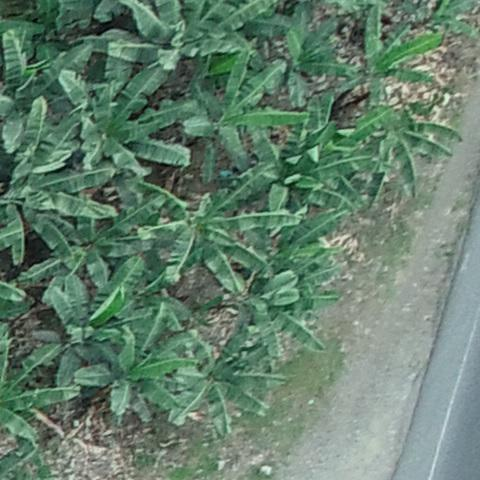Banana-plant: (146, 177, 295, 295), (66, 48, 190, 182), (3, 111, 113, 259), (230, 119, 362, 216), (172, 335, 295, 435), (190, 59, 307, 163), (43, 282, 157, 388), (256, 216, 344, 345), (358, 96, 463, 201), (110, 0, 280, 58), (336, 11, 438, 105), (34, 205, 147, 286), (78, 337, 188, 416), (250, 25, 349, 101)
